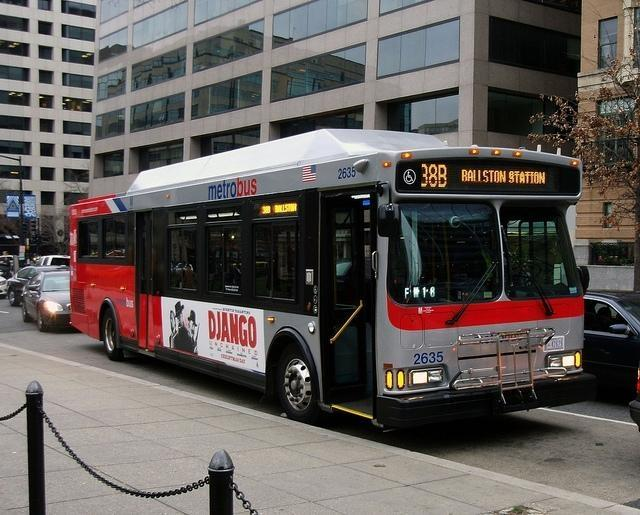bus: (68, 127, 599, 434)
car: (582, 288, 640, 390), (21, 268, 72, 332), (6, 264, 64, 308), (0, 256, 18, 282), (43, 256, 70, 268)
